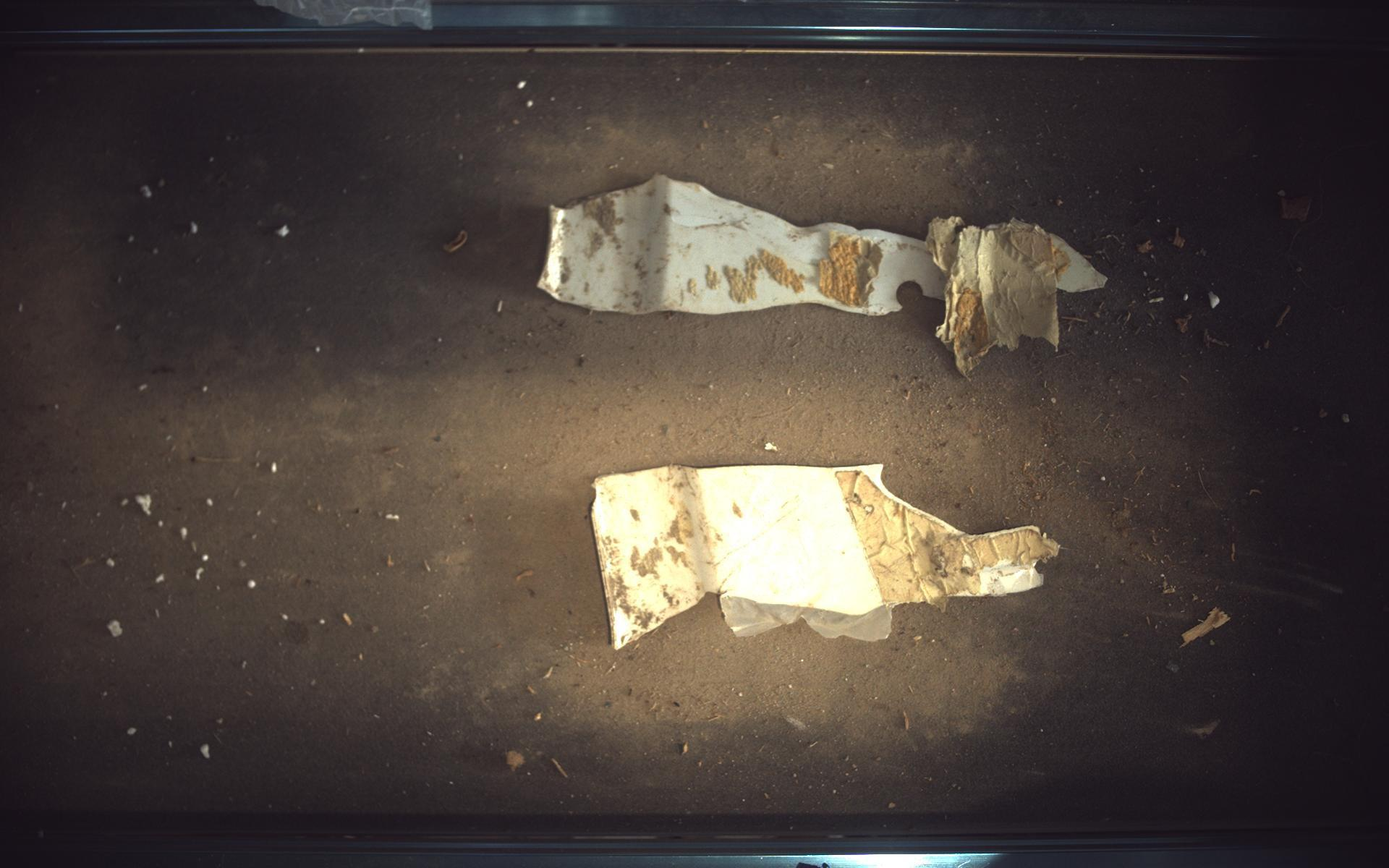plastic: (538, 174, 1109, 376), (592, 464, 1061, 650)
